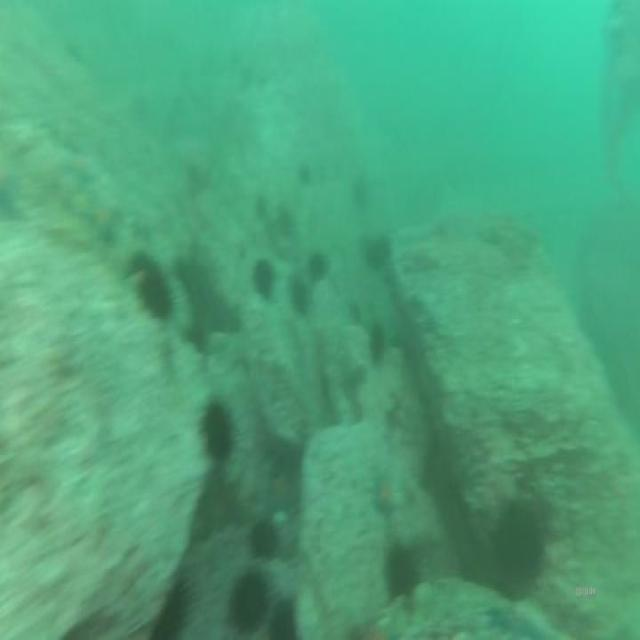echinus: (491, 510, 543, 598), (230, 575, 264, 631), (203, 405, 232, 455), (386, 550, 417, 596), (142, 281, 172, 318), (250, 520, 276, 555), (252, 256, 272, 297), (368, 237, 391, 270), (290, 278, 311, 308), (372, 314, 386, 351), (310, 254, 329, 280)
starfish: (373, 476, 403, 514), (89, 204, 116, 243), (68, 155, 94, 188), (270, 471, 297, 502)
